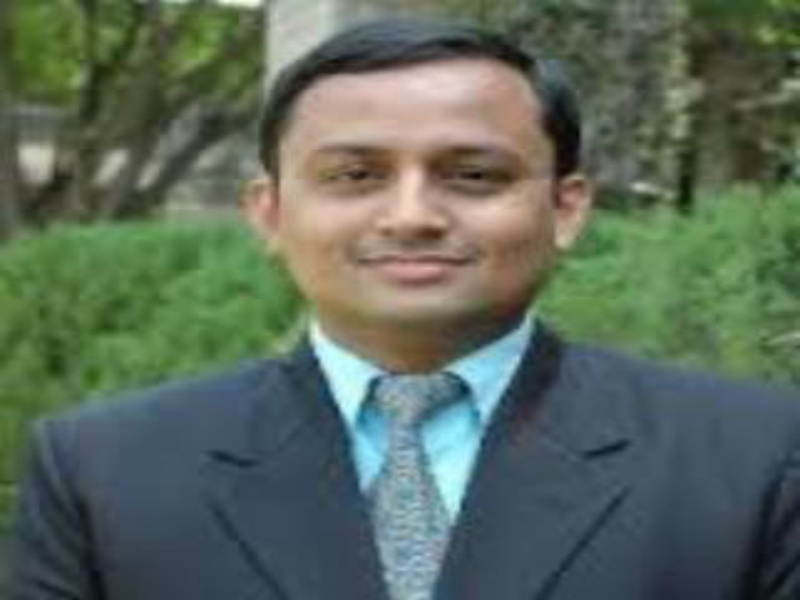TsisyArotava: (233, 22, 612, 379)
